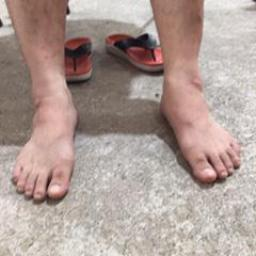Front View -Both Feet-: (4, 39, 248, 210)
